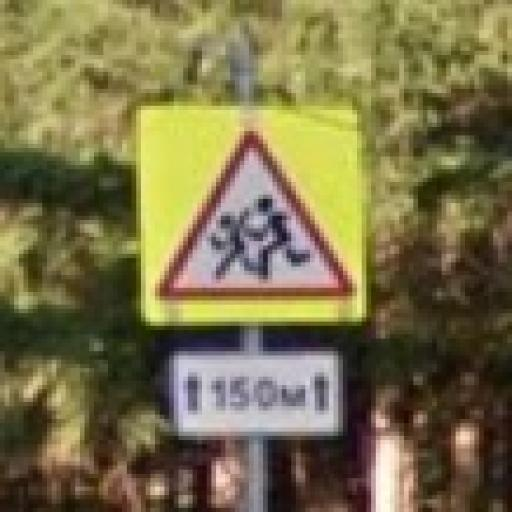traffic_sign: (156, 132, 358, 302)
